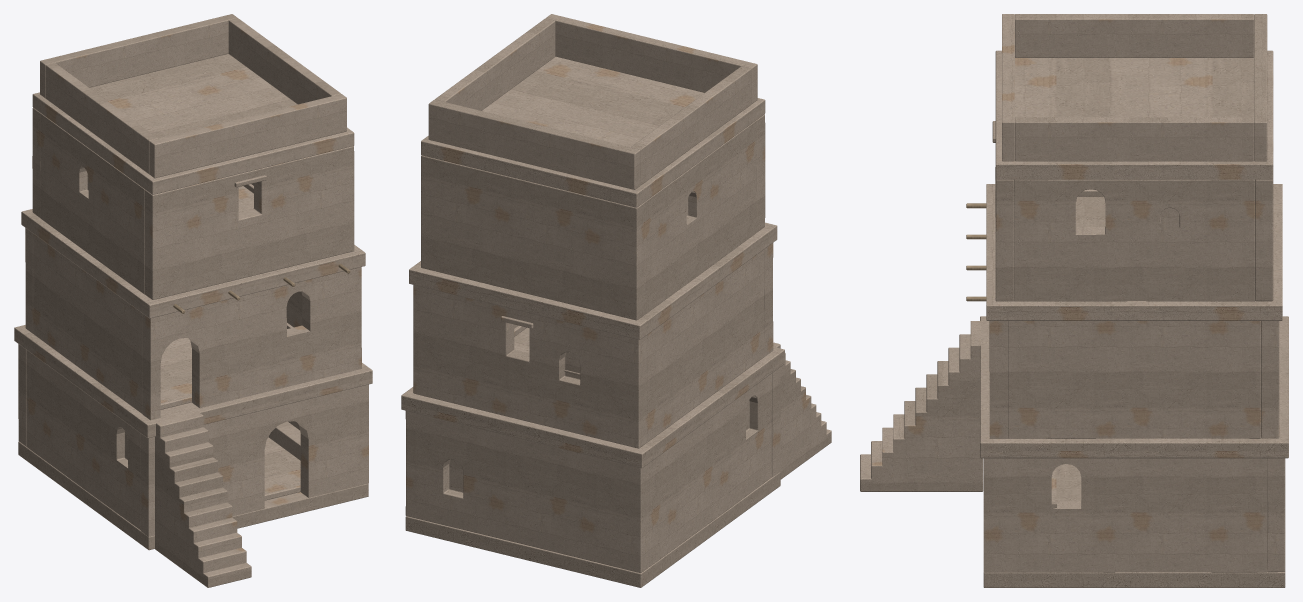
The model's file is tower_2.glb.
The picture shows the model from 3 angles, left to right: view 1: azimuth 30°, elevation 25°; view 2: azimuth 150°, elevation 25°; view 3: azimuth 270°, elevation 25°; orthographic projection. The views are drawn at different scales.
Visible parts, largest first — view 1: tower; view 2: tower; view 3: tower.
Part boxes in pixels (<box>): tower: <box>14,14,372,587</box>; tower: <box>401,14,831,587</box>; tower: <box>860,14,1288,587</box>.
Size of the model in its own units: 6.93 by 11.66 by 9.88.
3 materials, 3 textured.
